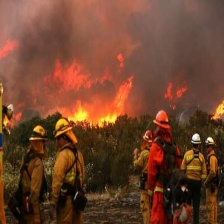fire: (68, 108, 123, 128), (214, 103, 224, 120)
smoke: (1, 1, 221, 105)
